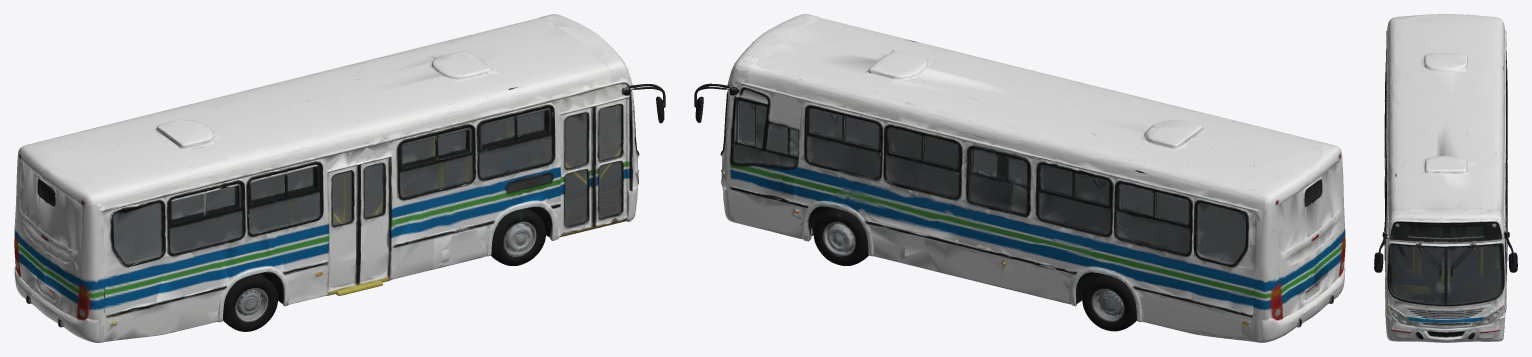
The model's file is onibus-urbano__01a16c1b.glb.
3 renders of one model, left to right at view 1: azimuth 30°, elevation 25°; view 2: azimuth 150°, elevation 25°; view 3: azimuth 270°, elevation 25°, orthographic. The views are drawn at different scales.
Parts seen in each view (by area): view 1: onibus-urbano; view 2: onibus-urbano; view 3: onibus-urbano.
Part boxes in pixels (x1,y1,x2,y2): onibus-urbano: [14, 14, 665, 342]; onibus-urbano: [694, 14, 1345, 342]; onibus-urbano: [1374, 14, 1517, 342].
Bounding box in the file's own units: 12 × 3.61 × 3.33.
1 material, 1 textured.
